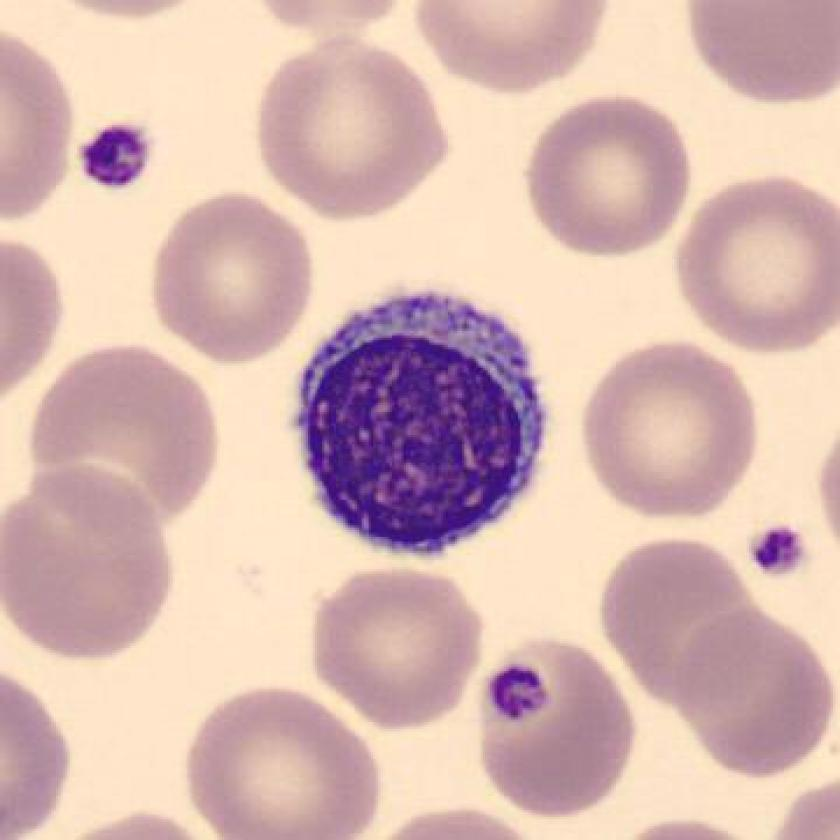lymphocyte: (279, 274, 568, 575)
